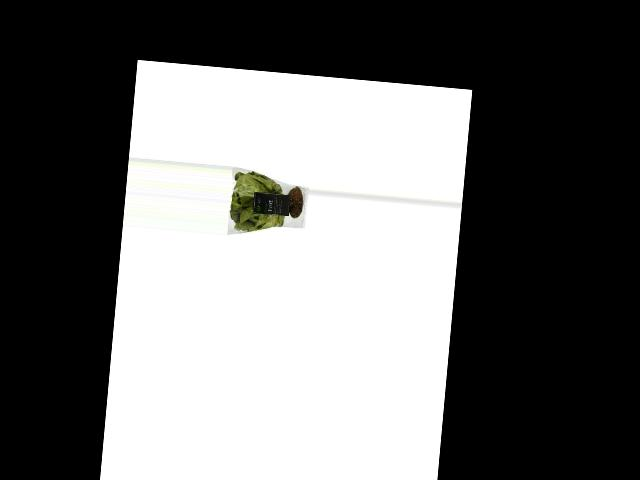lettuce: (227, 167, 310, 239)
